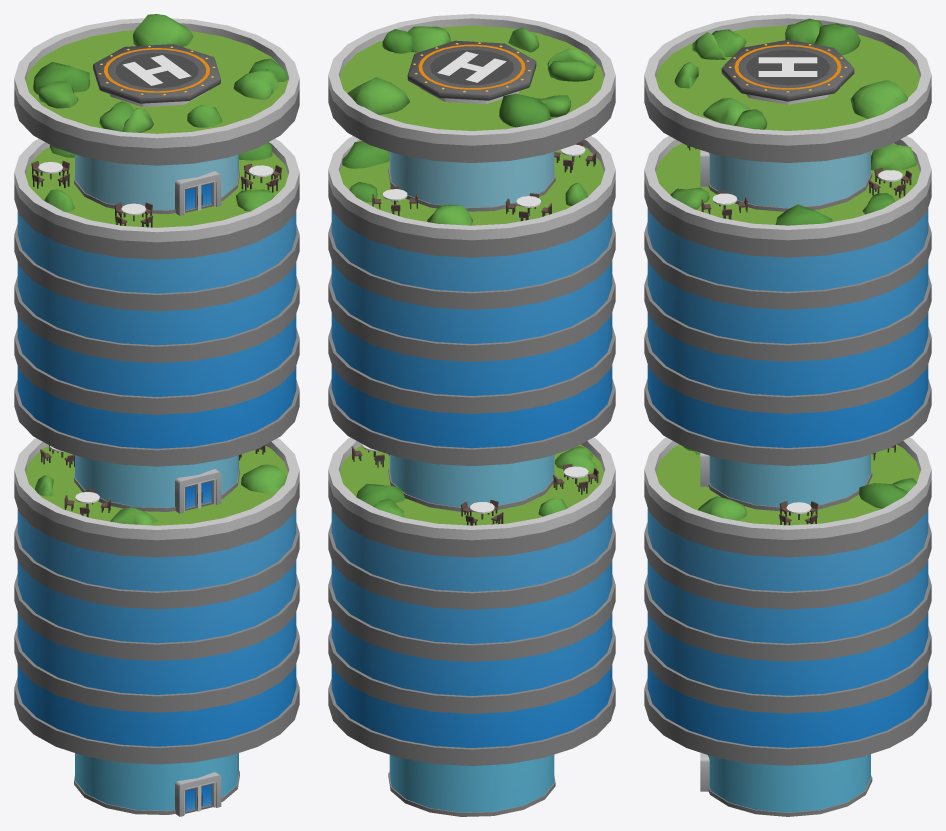
Rendered from elite_residental_building_009.glb.
3 renders of one model, left to right at view 1: azimuth 30°, elevation 25°; view 2: azimuth 150°, elevation 25°; view 3: azimuth 270°, elevation 25°, orthographic.
Visible parts, largest first — view 1: elite_residental_building_009; view 2: elite_residental_building_009; view 3: elite_residental_building_009.
Part boxes in pixels (box(x1,y1,x2,y2)): elite_residental_building_009: box(14, 14, 299, 816); elite_residental_building_009: box(328, 14, 615, 816); elite_residental_building_009: box(644, 14, 931, 816).
Bounding box in the file's own units: 22.96 × 63.58 × 22.96.
Materials: 3 (3 with a texture image).
